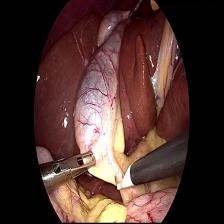Grasper: (37, 147, 96, 195)
Hook: (114, 156, 140, 206)
